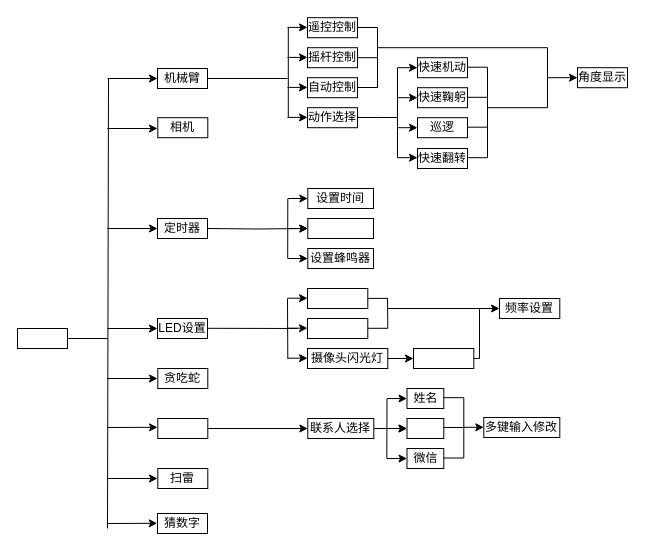
This 645x551 diagram has some shape labels left out. Each missing label, with the centre of its shape:
ESP-LED: the point at 337,328
QQ: the point at 425,428
STM-LED: the point at 337,298
主页: the point at 42,338
模式设置: the point at 443,358
设置闹钟: the point at 340,228
通讯录: the point at 182,428
